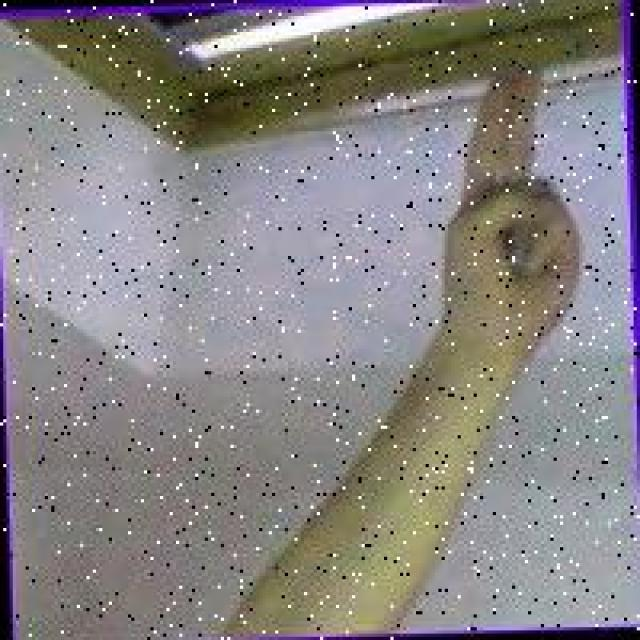U: (424, 53, 587, 360)
